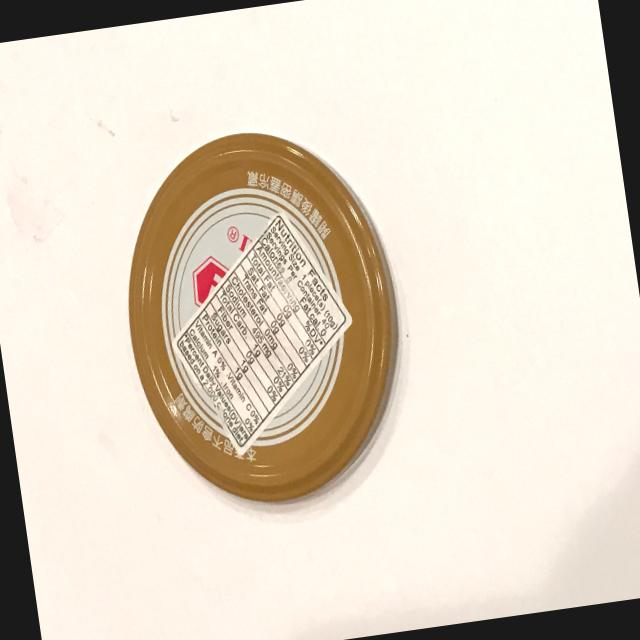Metal: (72, 81, 452, 532)
